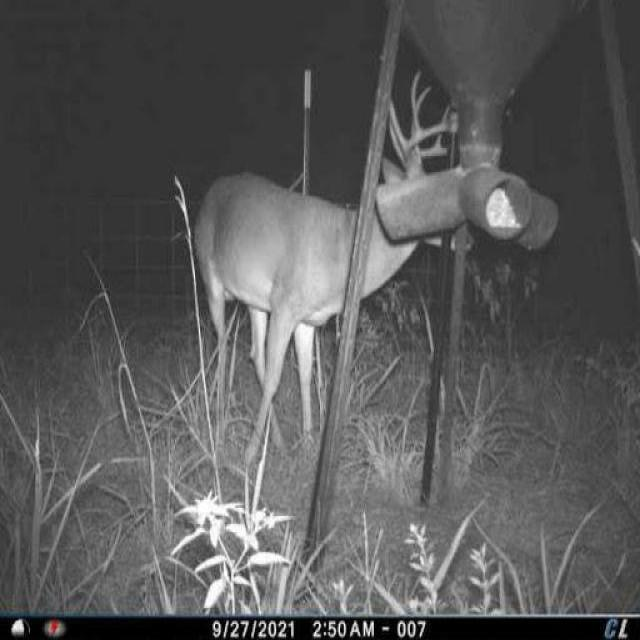deer: (189, 66, 479, 465)
